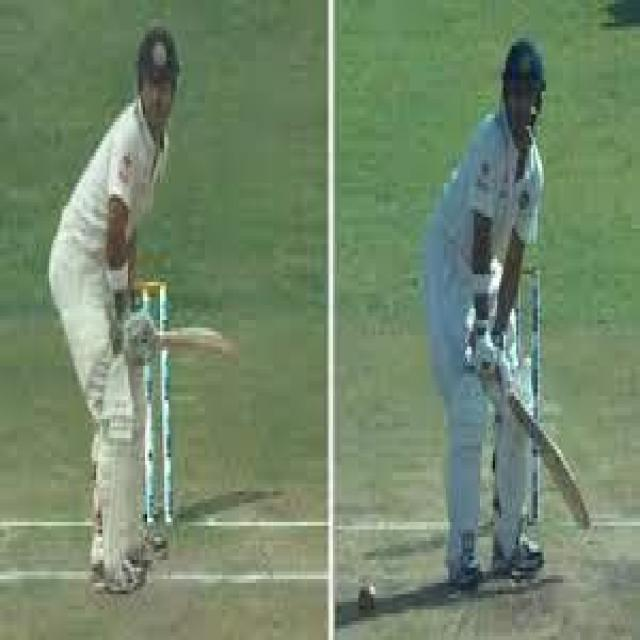bat: (506, 385, 590, 530), (151, 323, 235, 364)
toe: (567, 484, 593, 532), (214, 331, 239, 364)
